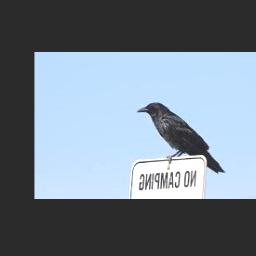Crow: (137, 102, 226, 173)
